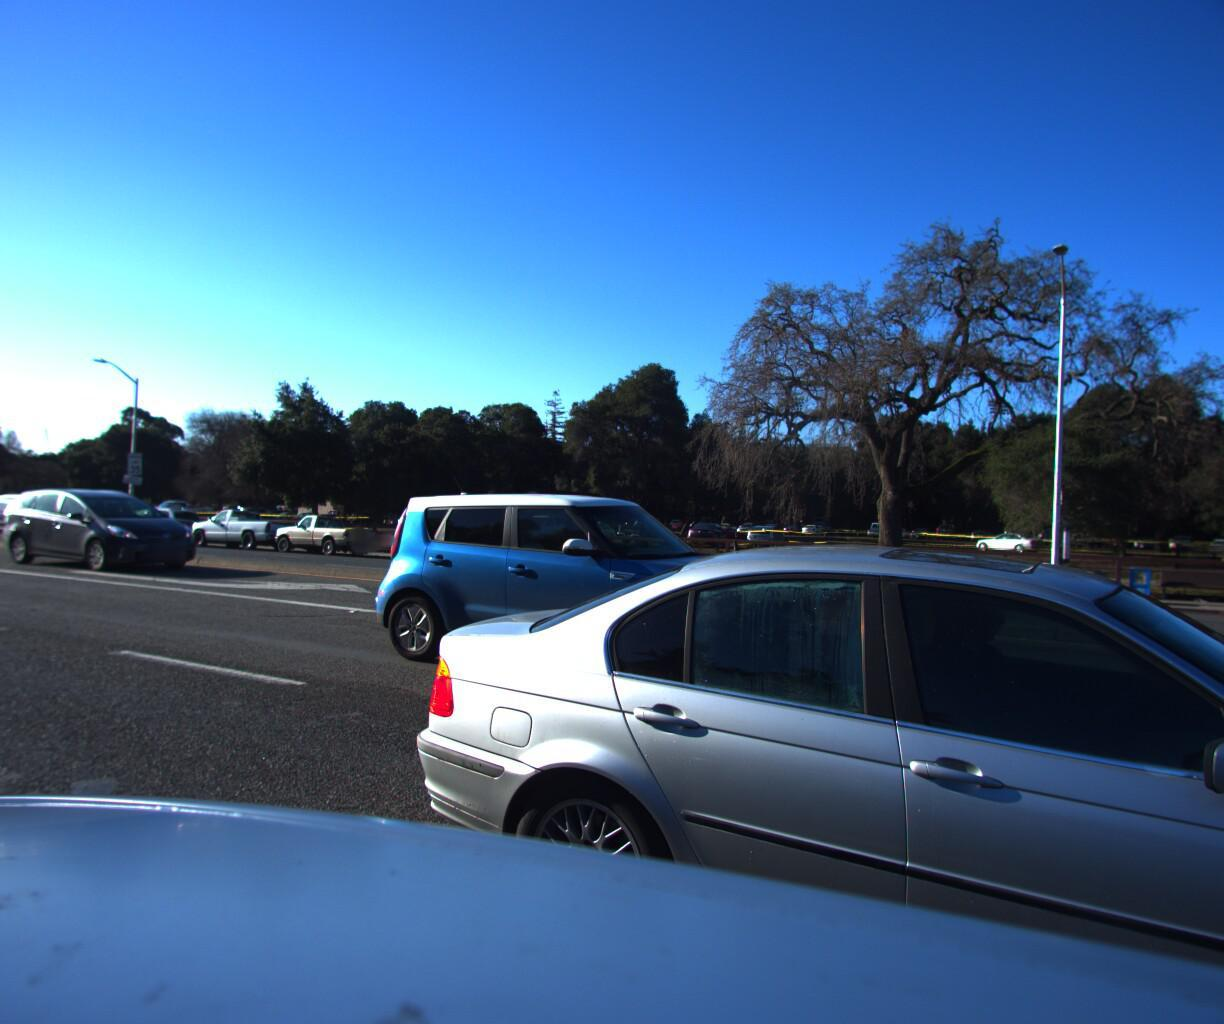car: (360, 528, 1224, 1024), (359, 488, 844, 719), (0, 479, 210, 571), (184, 501, 305, 546), (268, 507, 382, 551), (107, 498, 207, 538), (0, 488, 62, 530)
